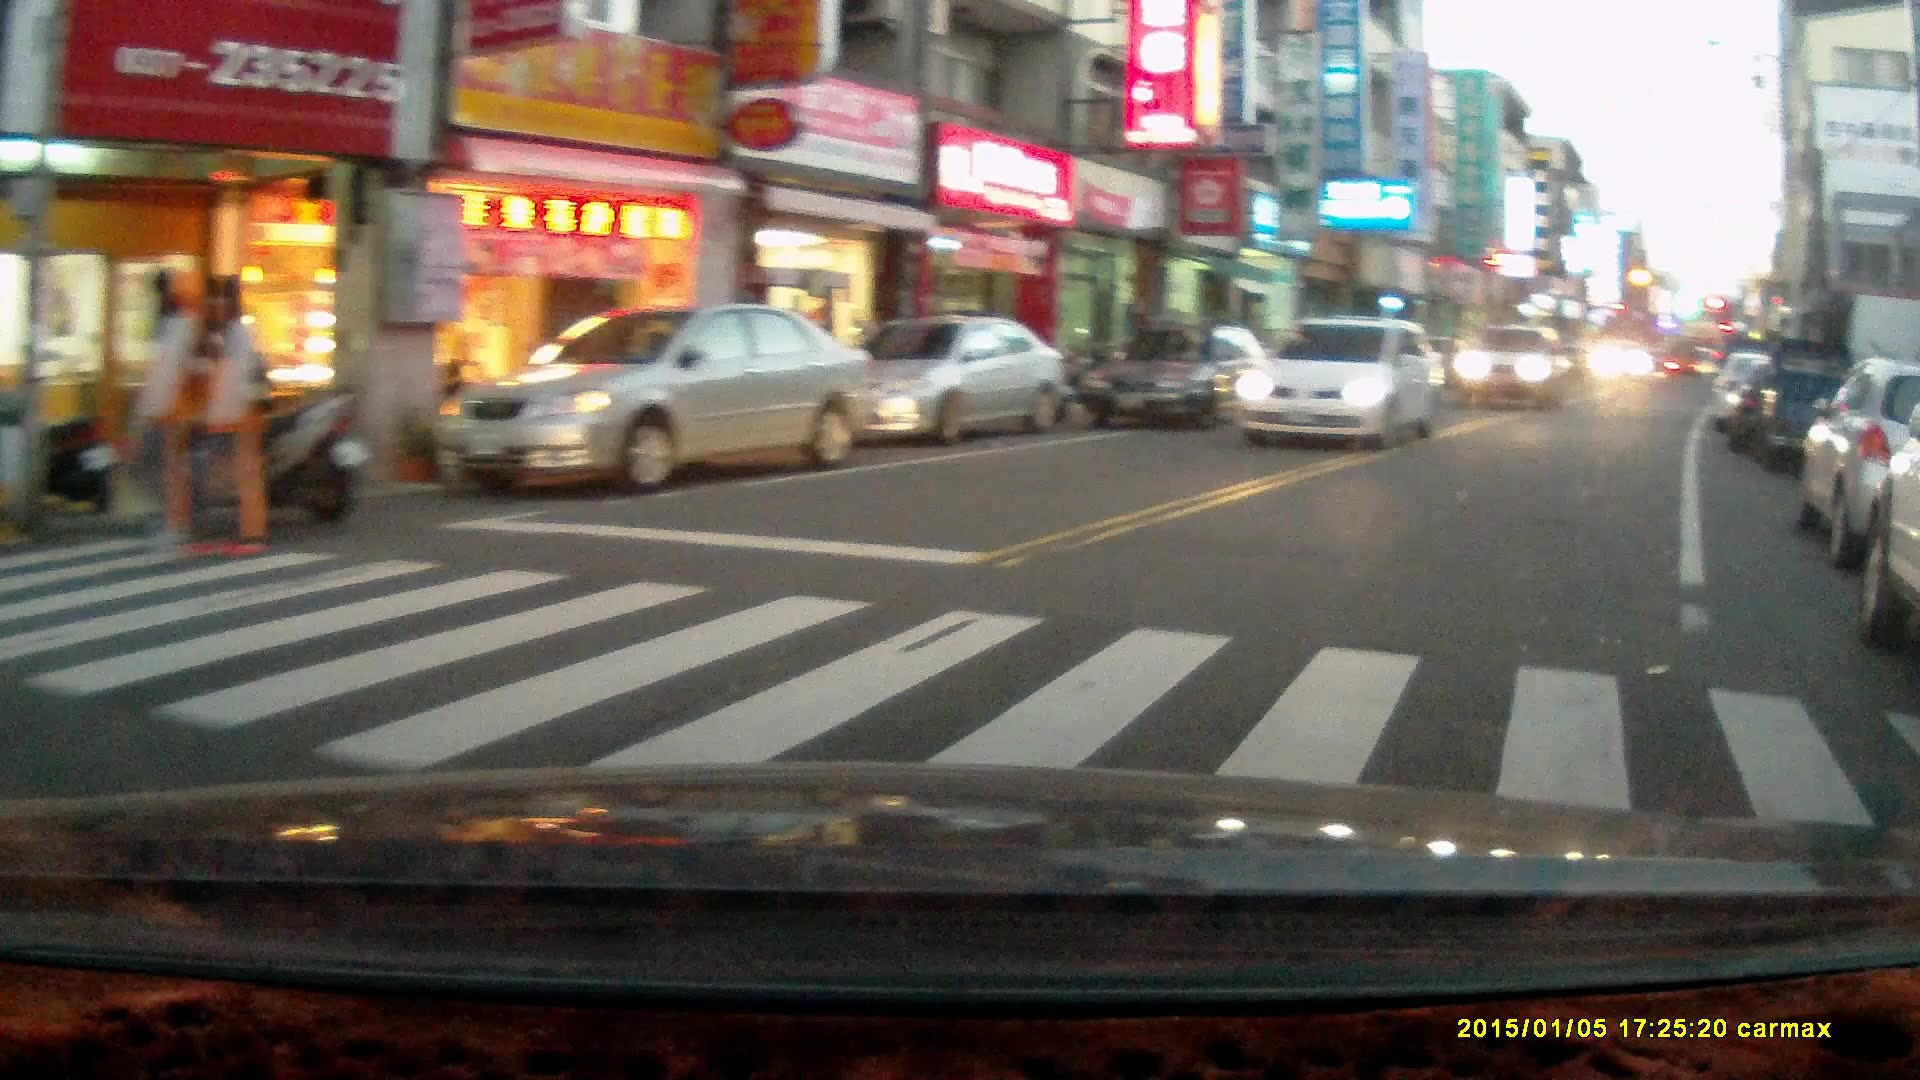pedestrian: (161, 276, 292, 565), (119, 268, 205, 555)
vehicle: (435, 299, 878, 495), (807, 315, 1067, 441), (1233, 311, 1450, 454), (1795, 350, 1920, 566), (1732, 334, 1890, 480), (1087, 324, 1280, 435), (1441, 324, 1575, 413), (1587, 337, 1648, 390)
